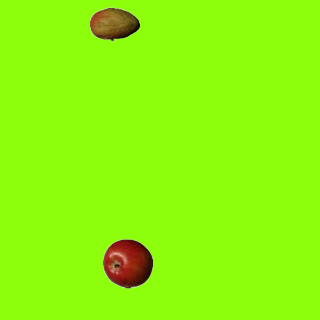Apple Braeburn: (102, 238, 152, 288)
Papaya: (89, 0, 139, 49)
